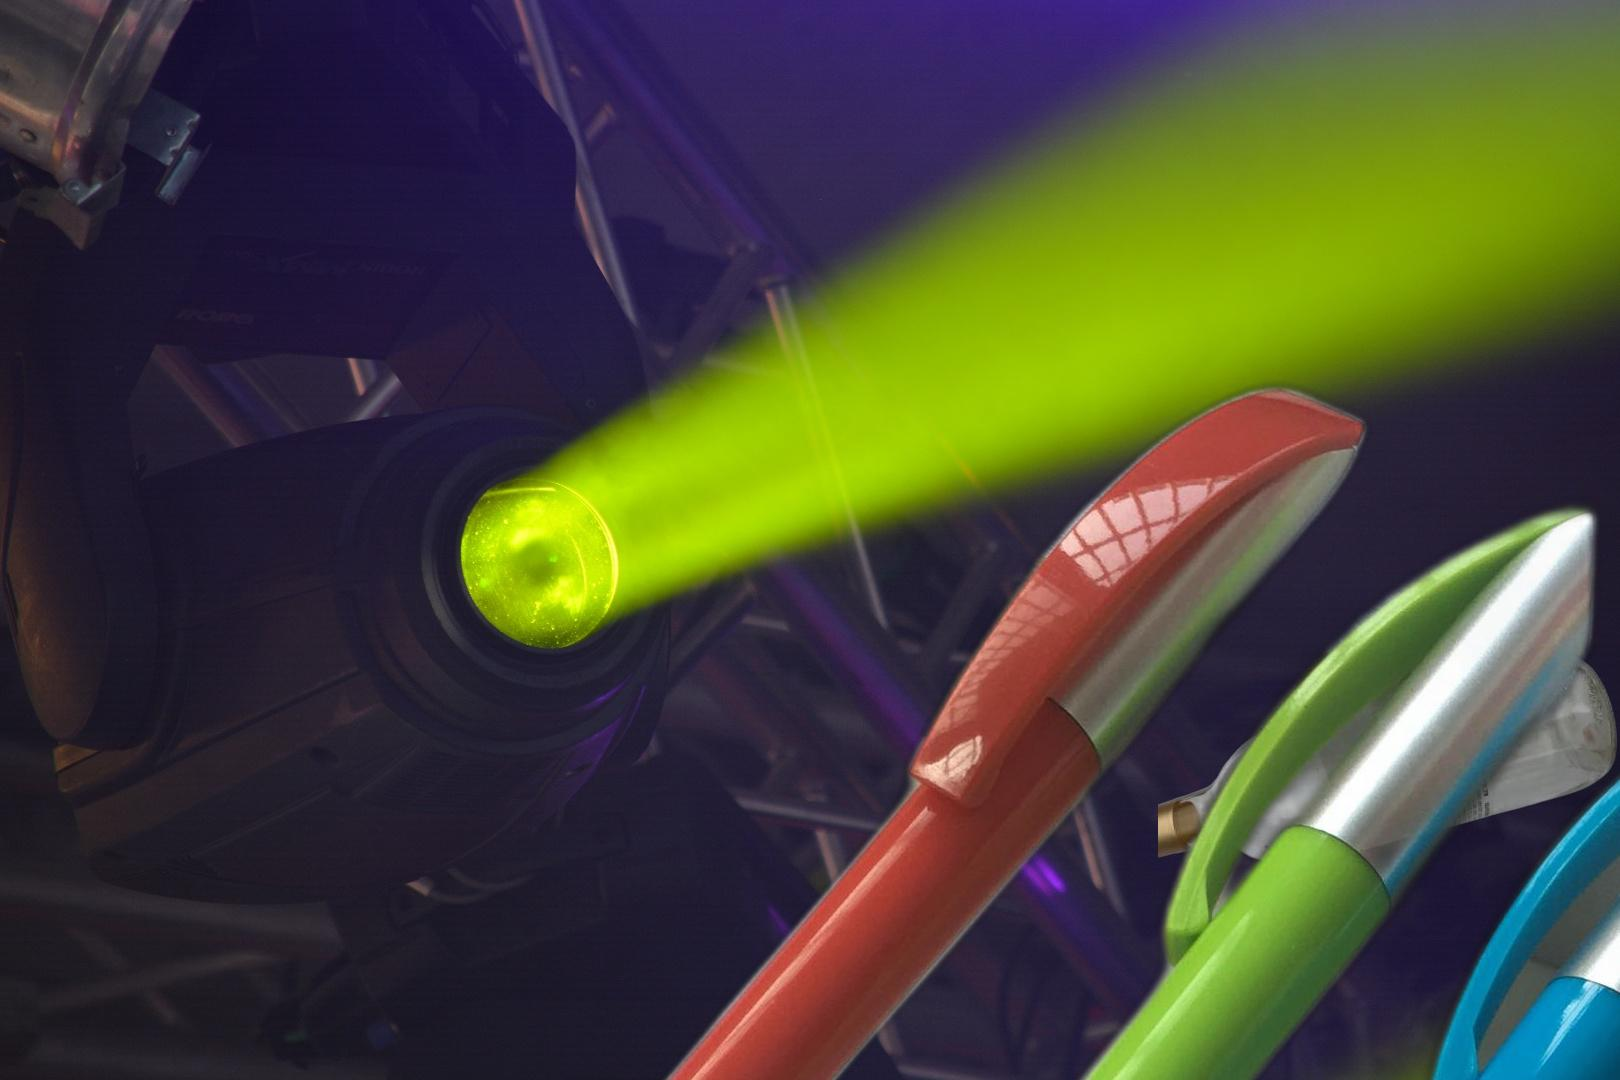glass: (1158, 650, 1620, 869)
penholder: (213, 371, 1620, 1080)
